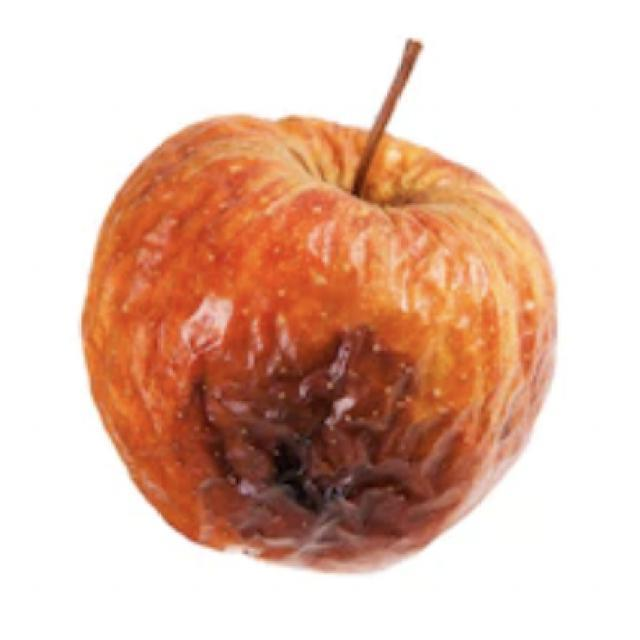Rotten: (85, 102, 563, 574)
